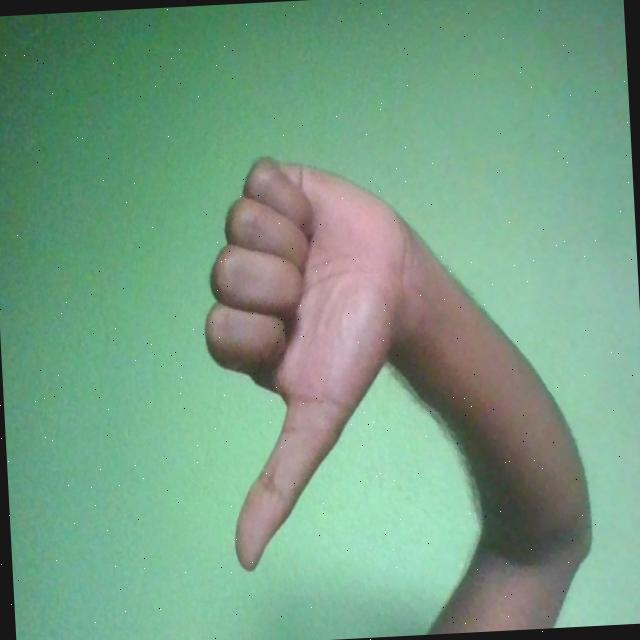Dislike: (196, 148, 428, 574)
